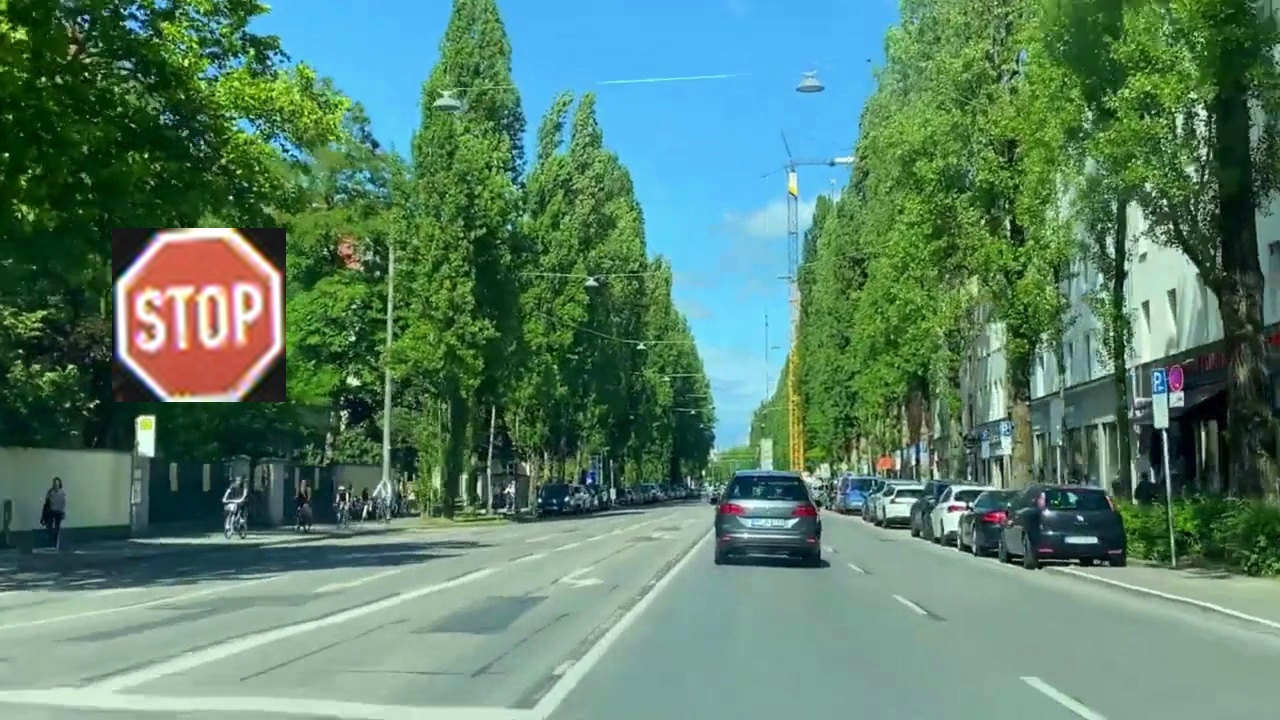Stop: (112, 228, 286, 402)
